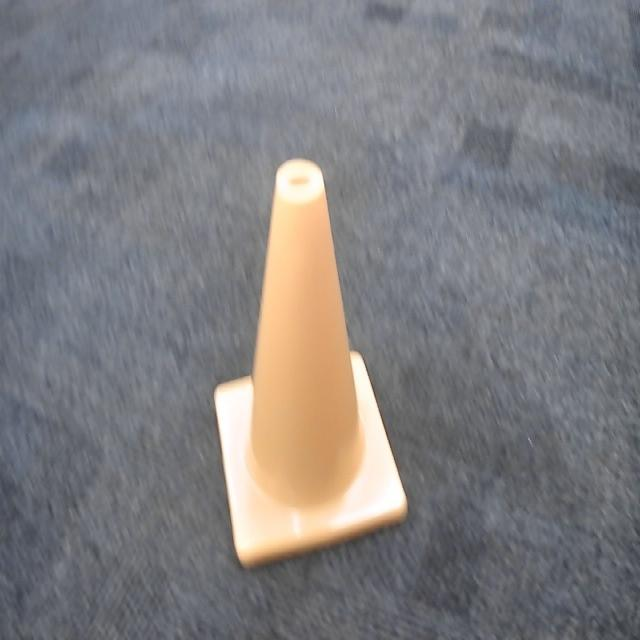cone: (215, 160, 408, 563)
